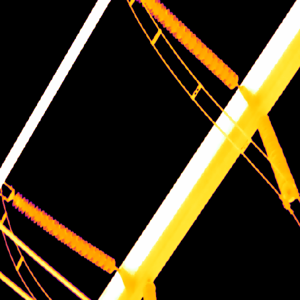insulator: (9, 187, 115, 275), (140, 0, 236, 91), (256, 110, 300, 203)
